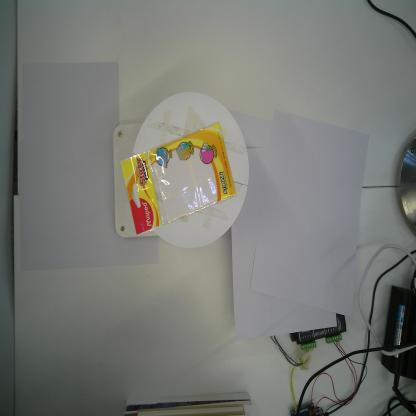Stationery: (119, 120, 239, 235)
